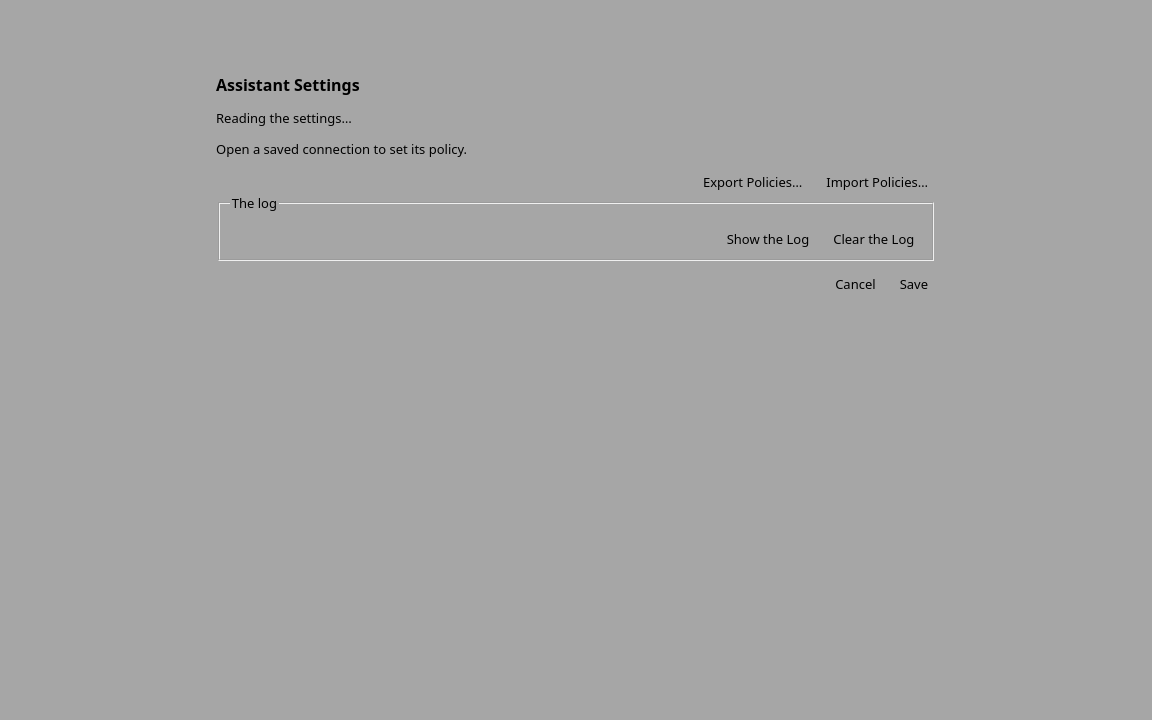
Scenario: the assistant's settings › waits for its settings, and asks for a saved connection to set a policy [DESIGN] D55
Later steps or results of the test are not shown.
expect the text "Reading the settings…" is shown: met, box [216, 109, 352, 127]
expect the text "Open a saved connection to set its policy." is shown: met, box [216, 140, 467, 158]
Click the button "Export Policies…" at (753, 182), box [695, 171, 810, 194]
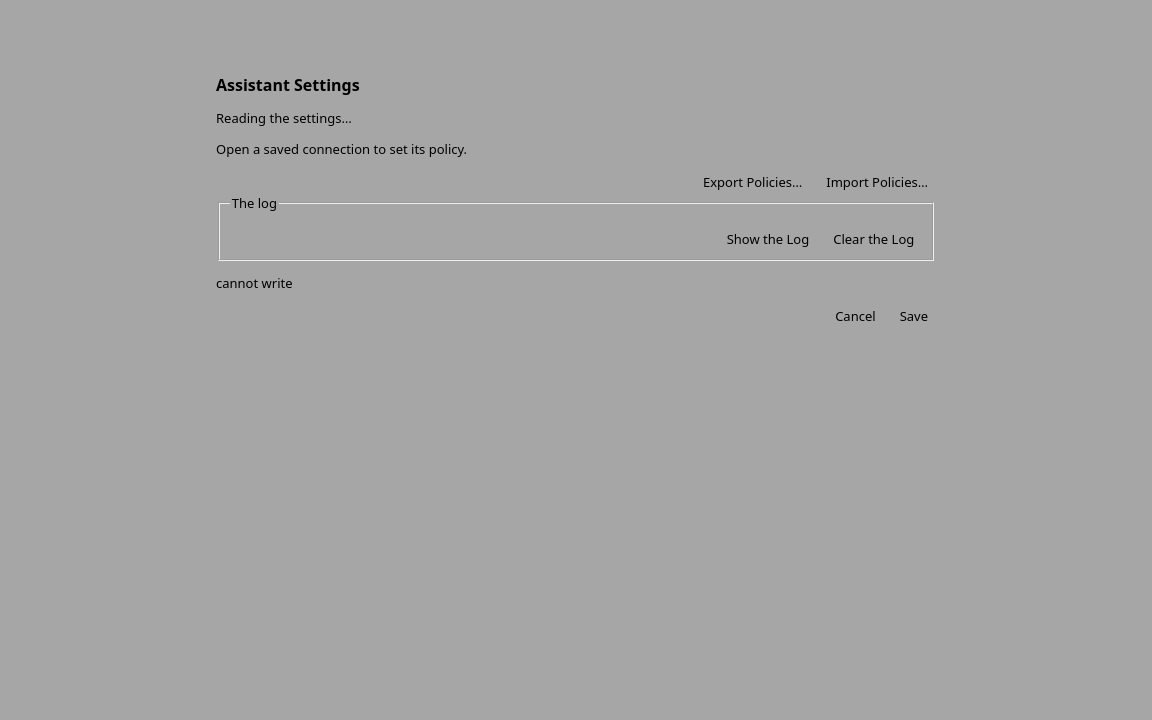
expect the message reads "cannot write": met, box [216, 274, 292, 292]
